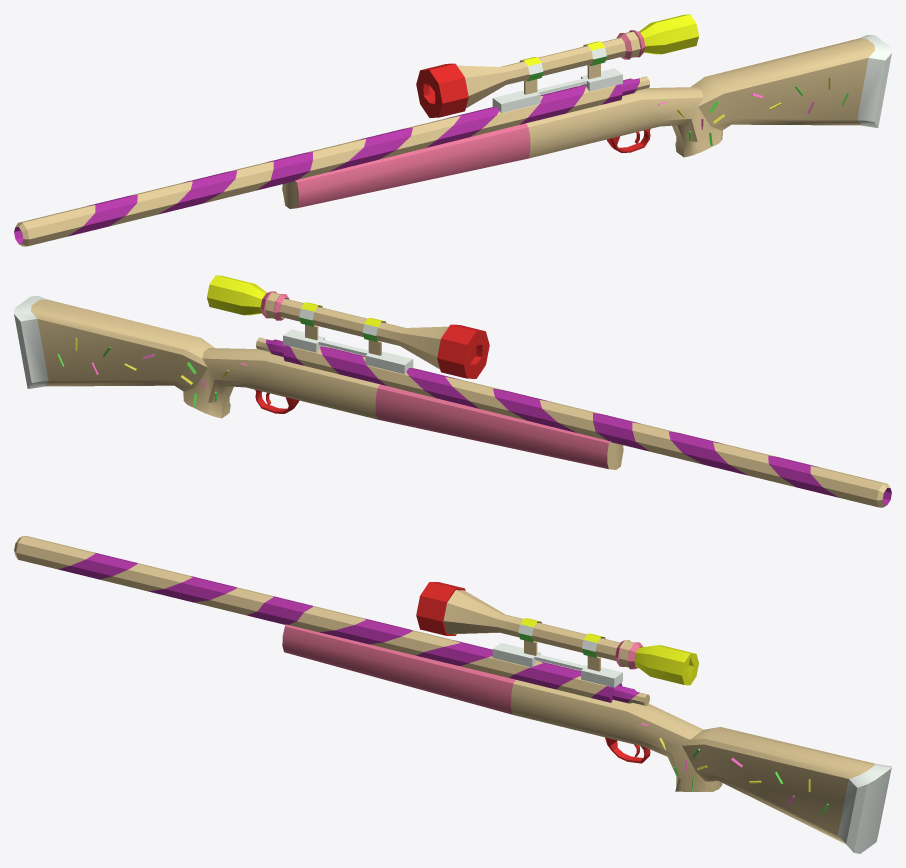
File: sniper.fbx
The picture shows the model from 3 angles, top to bottom: view 1: azimuth 30°, elevation 25°; view 2: azimuth 150°, elevation 25°; view 3: azimuth 330°, elevation 25°; orthographic projection.
Visible parts, largest first — view 1: Cube.001; view 2: Cube.001; view 3: Cube.001.
Part boxes in pixels (left/top/right/bottom): Cube.001: left=14, top=14, right=891, bottom=246; Cube.001: left=14, top=275, right=891, bottom=507; Cube.001: left=14, top=536, right=891, bottom=853.
Size of the model in its own units: 1489 by 262 by 83.83.
